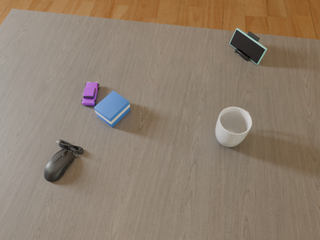box: (94, 91, 130, 127)
cup: (216, 107, 252, 147)
mouse: (44, 140, 83, 181)
phone: (230, 28, 267, 64)
toy_car: (82, 82, 99, 105)
